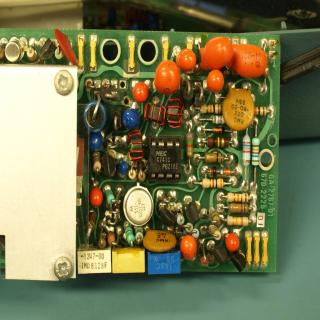tomato: (203, 35, 233, 64)
